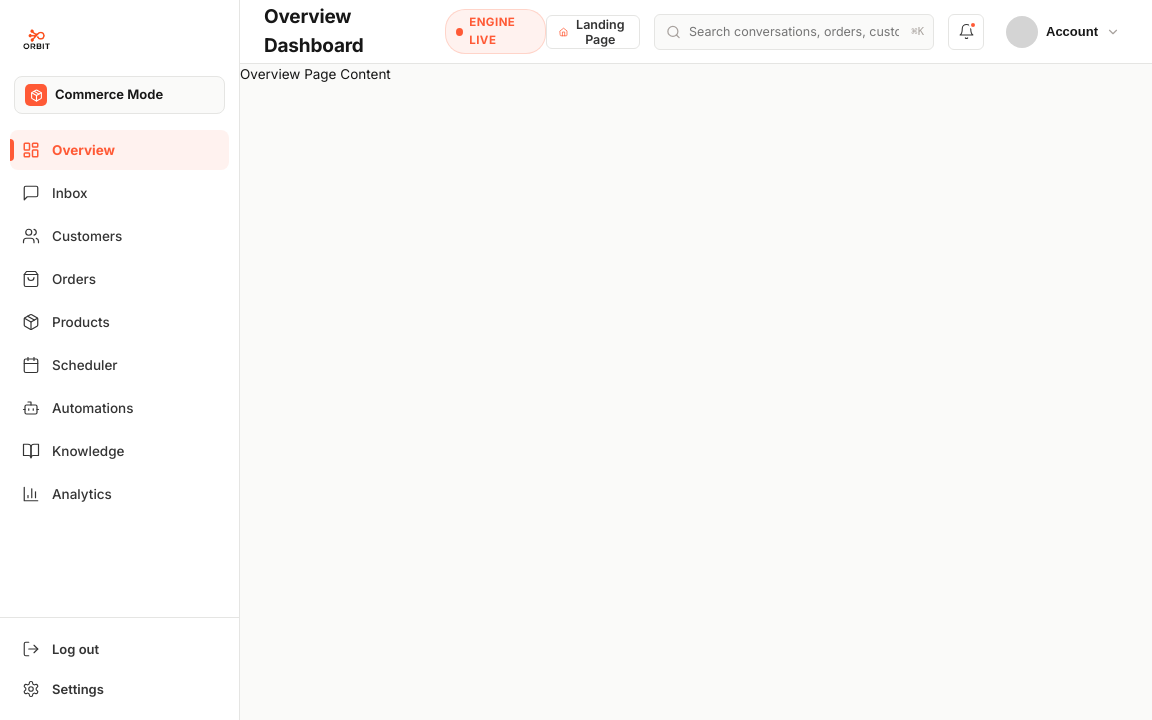
Test: App Shell — Sidebar & TopBar › TopBar › supports quick search with keyboard shortcut Ctrl+K and escape dismissal
Note: Trigger Ctrl+K
Step 1. Press k
Note: Search for 'Ahmed'
Step 2. Type "Ahmed" into the field with placeholder "Search conversations, orders, customers..." → point(794, 32), box x1=654 y1=14 x2=934 y2=50
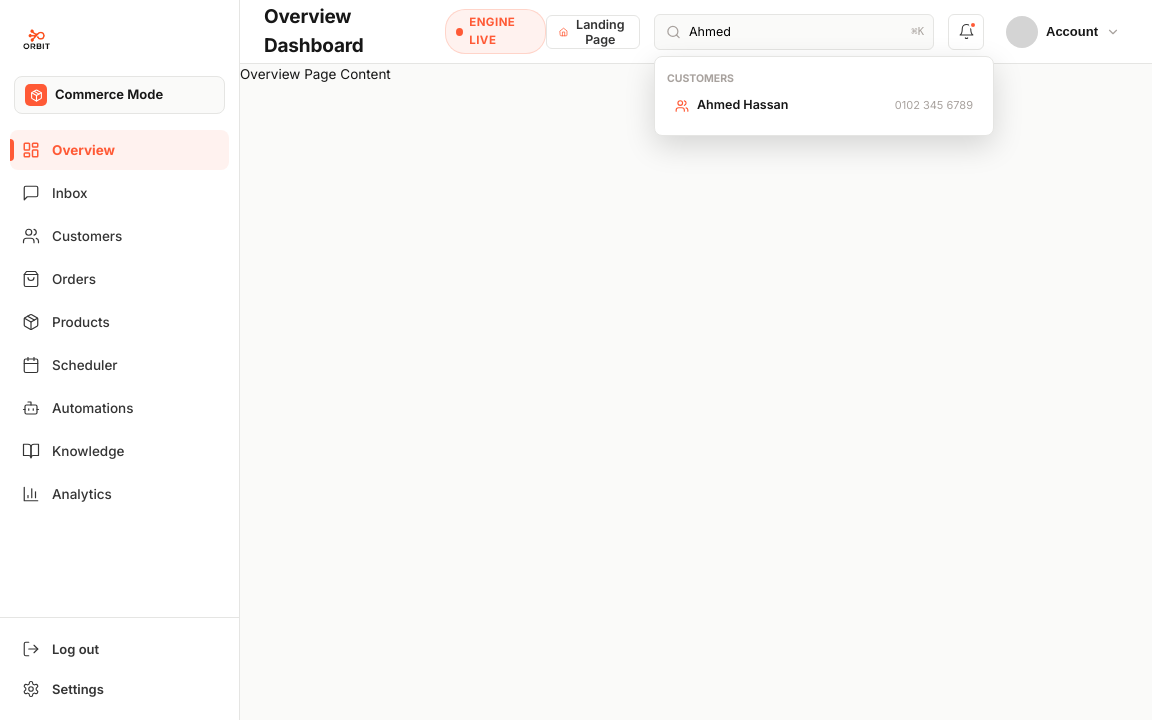
Check: the text "Ahmed Hassan" is shown, box x1=697 y1=96 x2=788 y2=115
Note: Press Escape to close search dropdown
Step 3. Press Escape
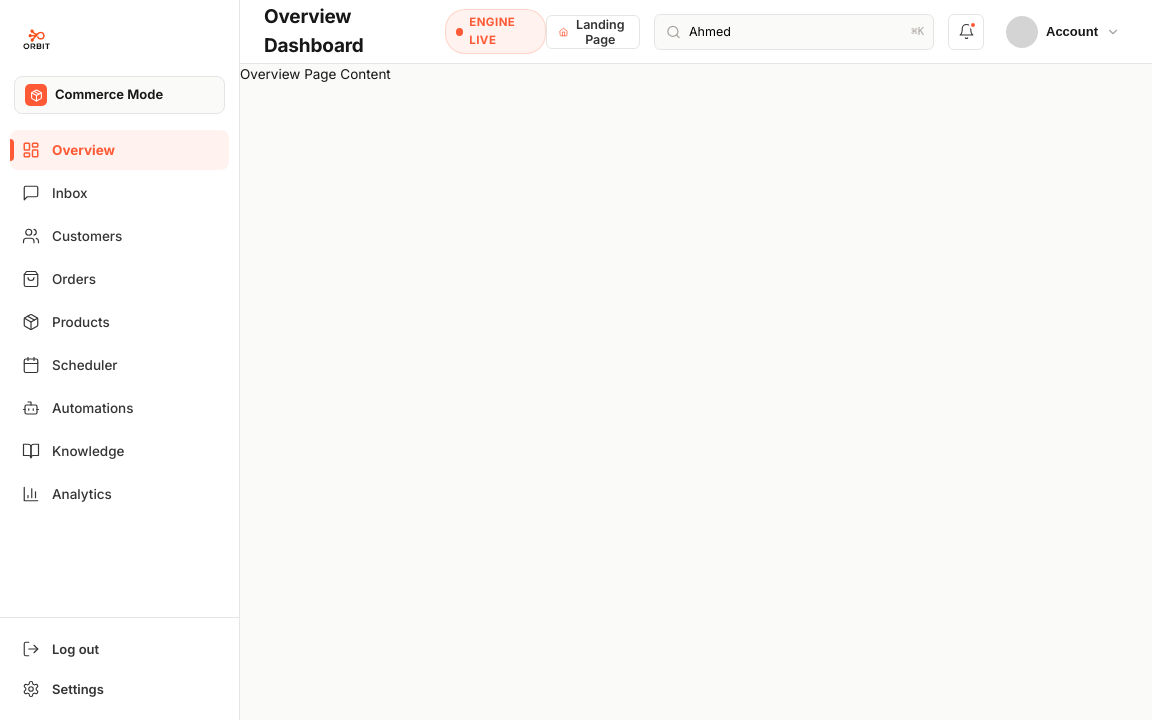
Check: the text "Ahmed Hassan" is gone
